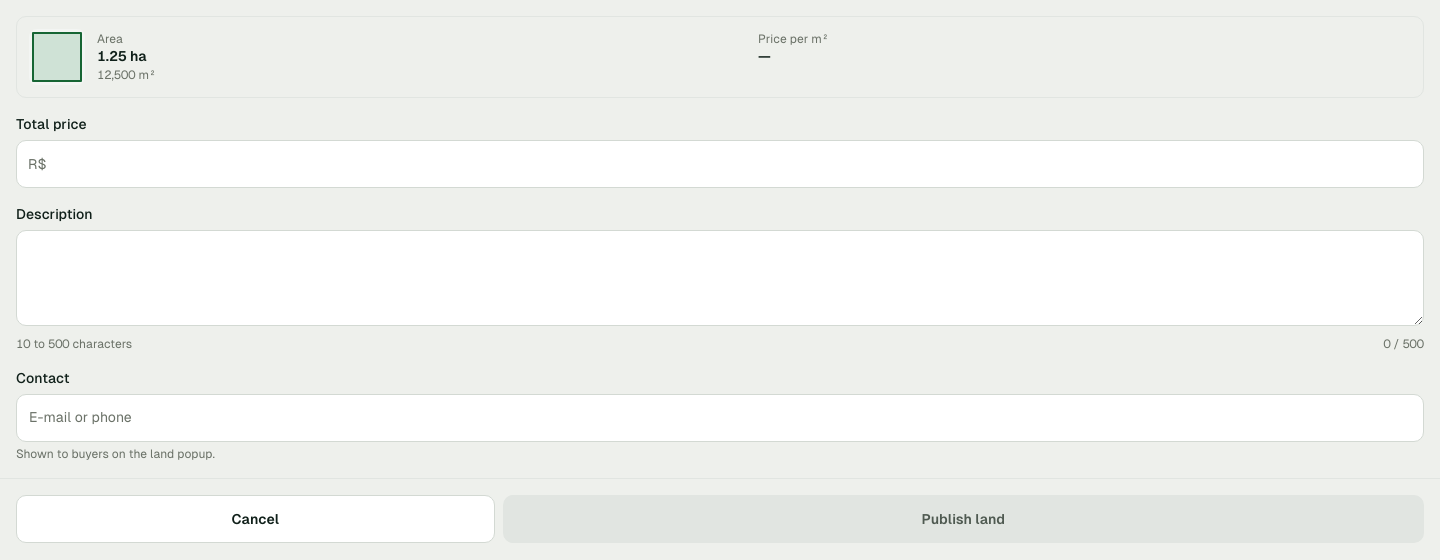
Test case: DetailsStep › masks the price input as BRL while typing
Type "185000.509" into the field labelled "Total price" at coordinates (720, 164), box [16,140,1424,188]
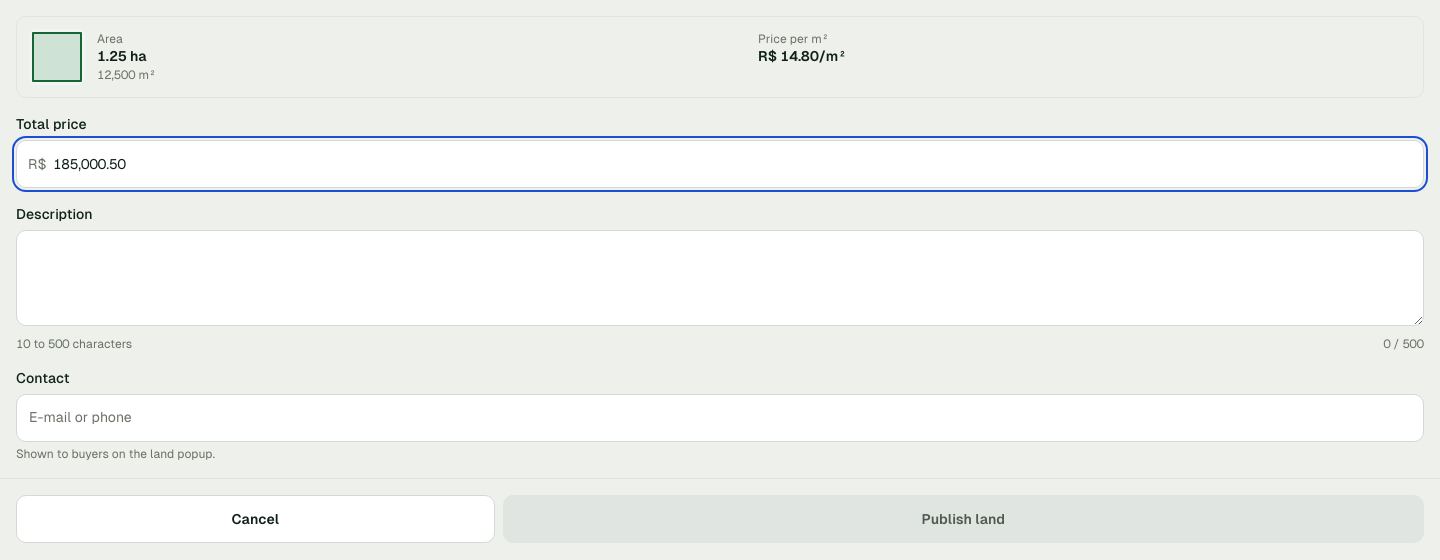
Expected: the field labelled "Total price" holds "185,000.50", [16,140,1424,188]
